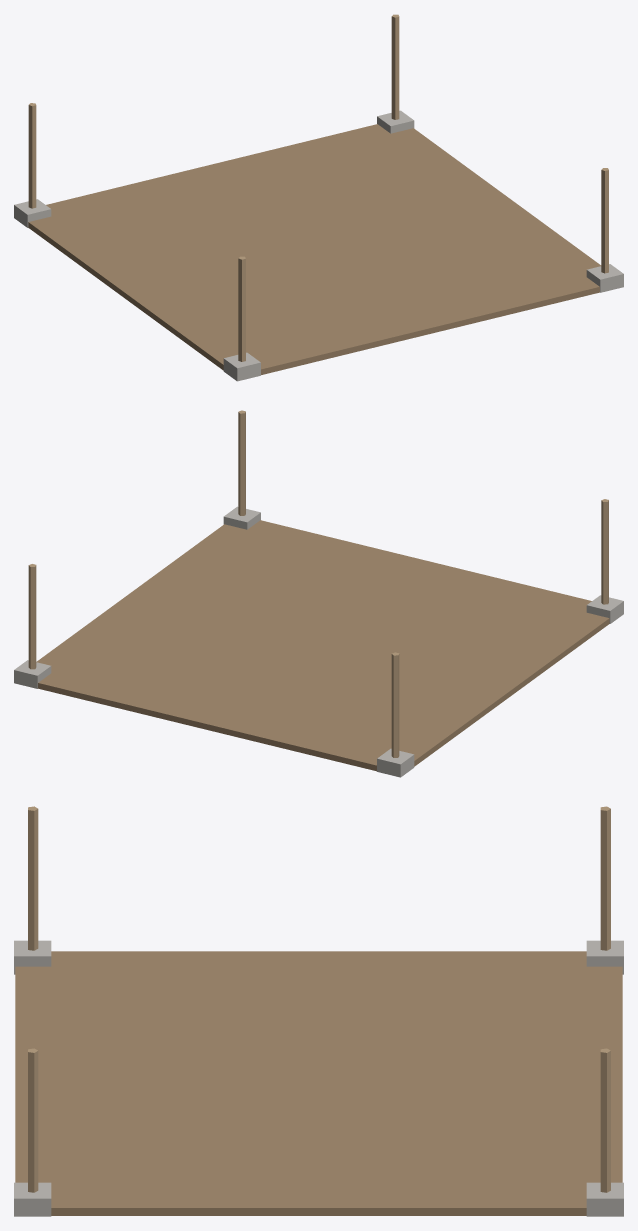
The model's file is building_pen_frame.glb.
The picture shows the model from 3 angles, top to bottom: view 1: azimuth 30°, elevation 25°; view 2: azimuth 150°, elevation 25°; view 3: azimuth 270°, elevation 25°; orthographic projection. The views are drawn at different scales.
Parts seen in each view (by area): view 1: building_pen_frame; view 2: building_pen_frame; view 3: building_pen_frame.
Boxes of the visible parts, box(x1,y1,x2,y2) form: building_pen_frame: box(14, 14, 623, 381); building_pen_frame: box(14, 410, 623, 777); building_pen_frame: box(14, 806, 623, 1216).
Bounding box in the file's own units: 4.9 × 1.4 × 4.9.
